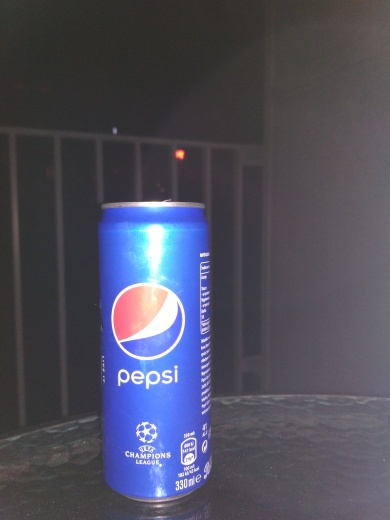pepsi: (92, 192, 214, 507)
